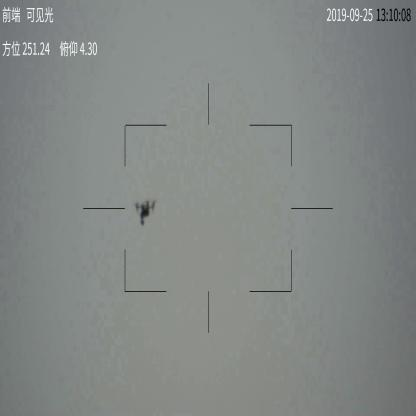uav: (134, 198, 157, 228)
